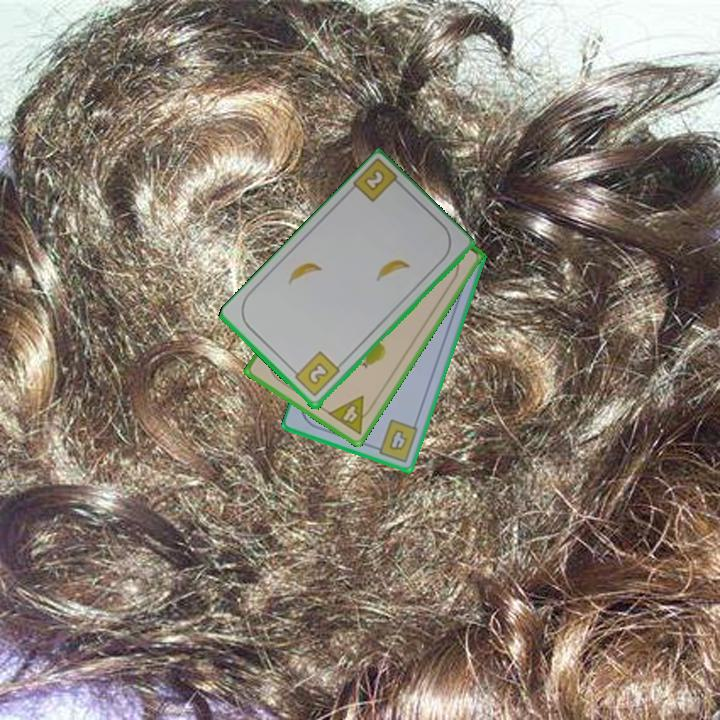2b: (288, 348, 343, 400), (360, 165, 388, 194)
4b: (369, 416, 421, 465)
4p: (324, 392, 378, 437)
